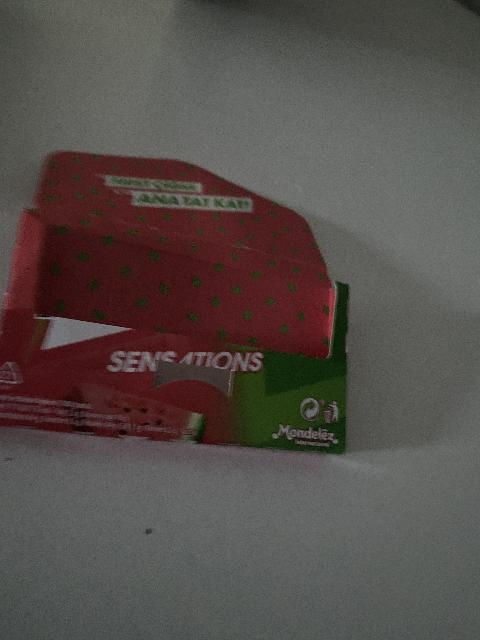Kagit: (0, 149, 351, 457)
